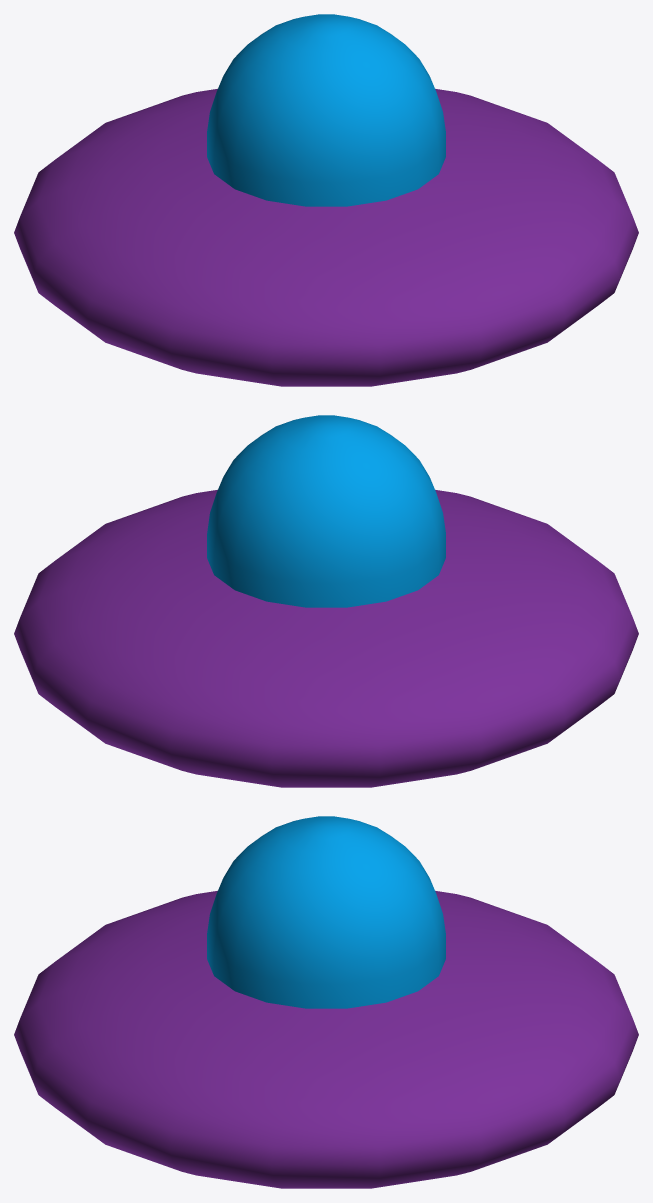
File: UFO v1.fbx
3 renders of one model, top to bottom at view 1: azimuth 30°, elevation 25°; view 2: azimuth 150°, elevation 25°; view 3: azimuth 270°, elevation 25°, orthographic.
Visible parts, largest first — view 1: Sphere.001; view 2: Sphere.001; view 3: Sphere.001.
Part boxes in pixels (bbox=[...]): Sphere.001: bbox=[14, 14, 638, 386]; Sphere.001: bbox=[14, 415, 638, 787]; Sphere.001: bbox=[14, 816, 638, 1188].
Size of the model in its own units: 48.93 by 24.94 by 49.69.
